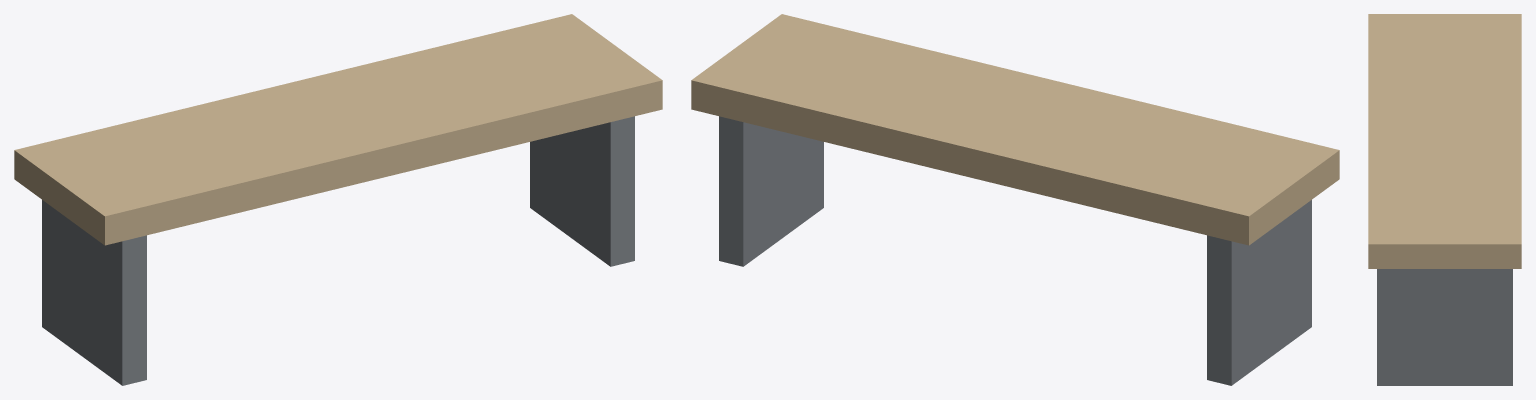
Rendered from BenchSimple.glb.
The picture shows the model from 3 angles, left to right: view 1: azimuth 30°, elevation 25°; view 2: azimuth 150°, elevation 25°; view 3: azimuth 270°, elevation 25°; orthographic projection. The views are drawn at different scales.
Visible parts, largest first — view 1: model; view 2: model; view 3: model.
Part boxes in pixels (x1=…): model: x1=14, y1=14, x2=662, y2=385; model: x1=691, y1=14, x2=1339, y2=385; model: x1=1368, y1=14, x2=1521, y2=385.
Bounding box in the file's own units: 1.6 × 0.49 × 0.45.
